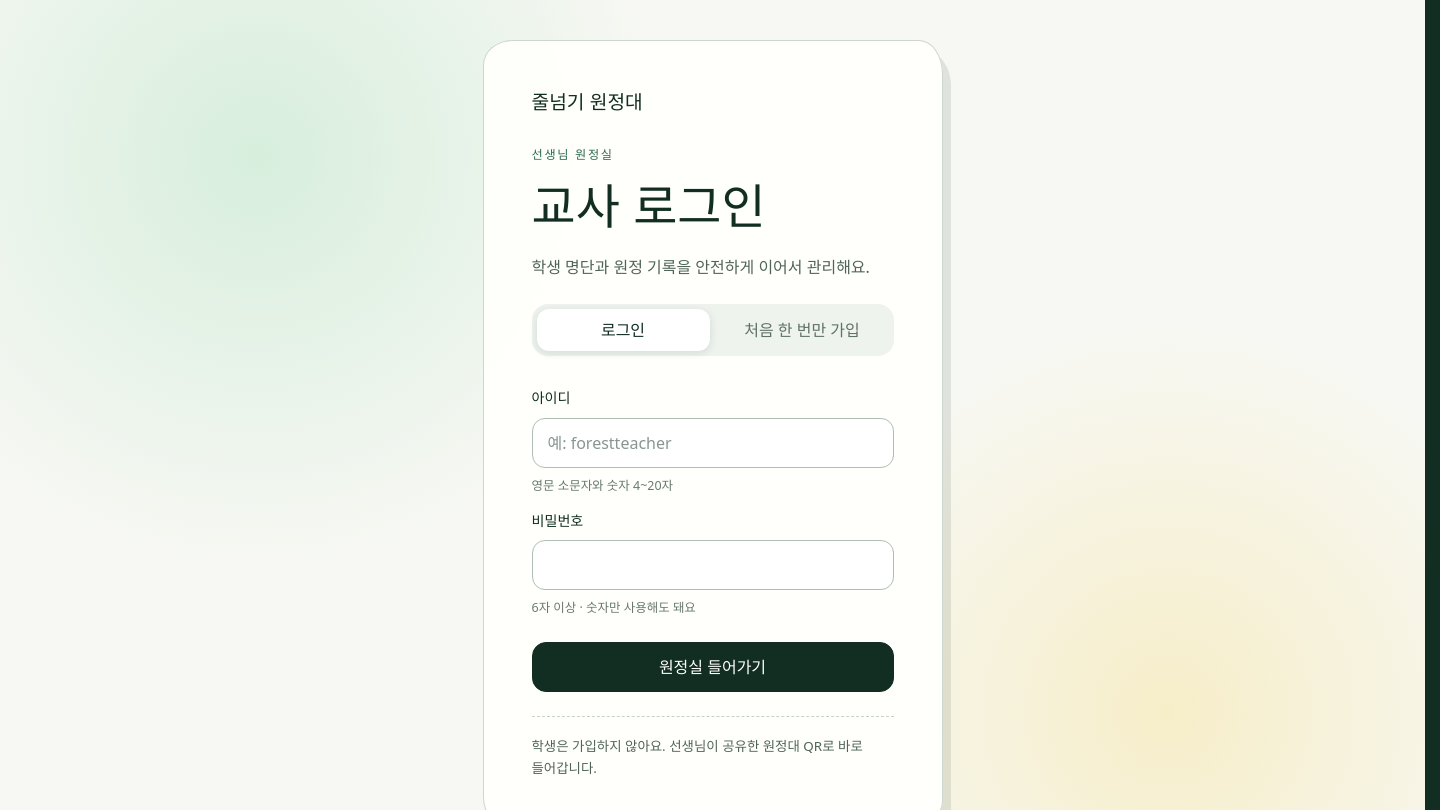
Scenario: TeacherLogin › uses an ID and asks for password confirmation when signing up
Click the tab "처음 한 번만 가입".
click(802, 330)  # box x1=716 y1=309 x2=888 y2=351
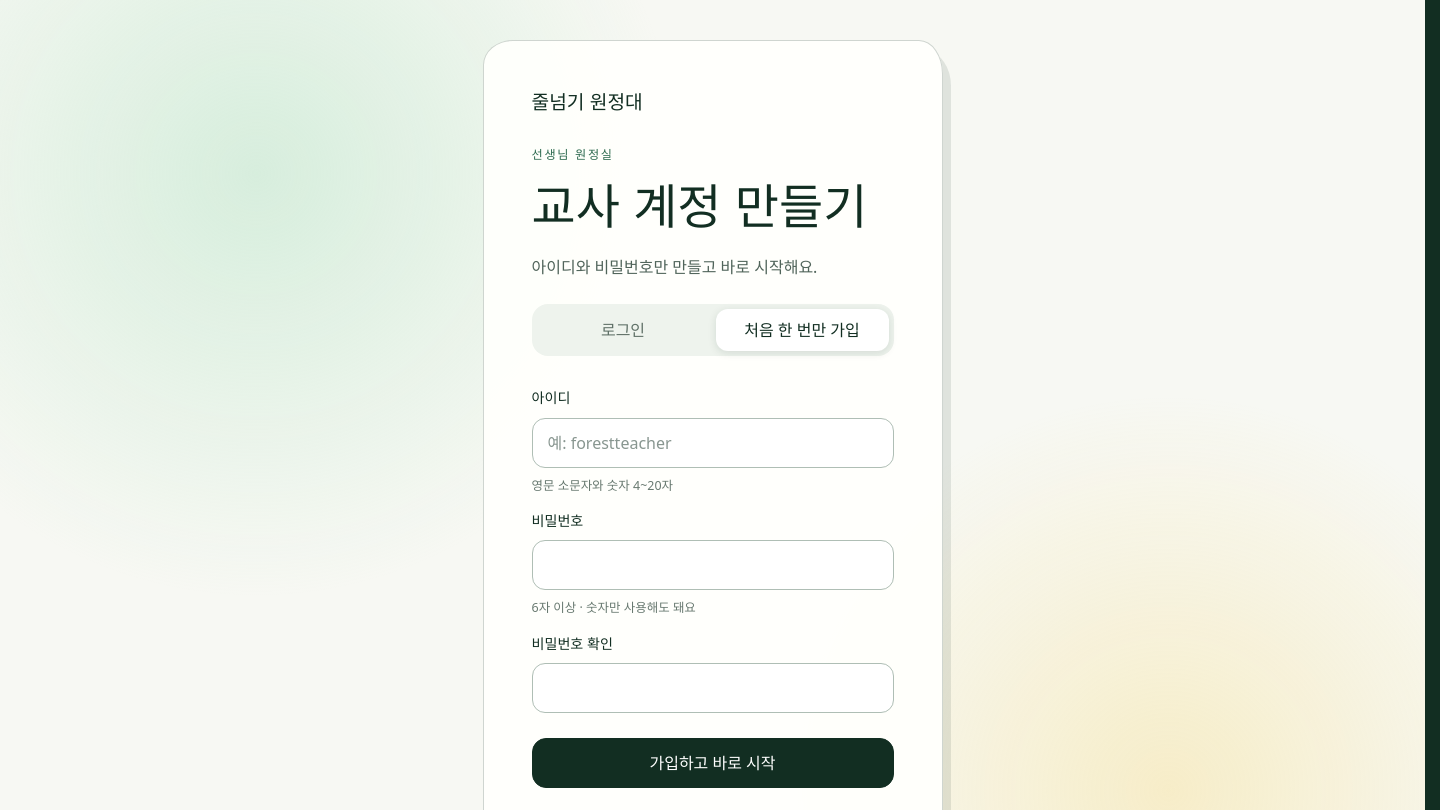
Expected: the text "영문 소문자와 숫자 4~20자" is shown, x1=532 y1=476 x2=673 y2=494
Now the password field labelled "비밀번호 확인" is shown, box x1=532 y1=663 x2=894 y2=713
